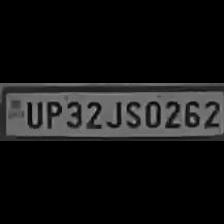0: (143, 98, 161, 128)
2: (82, 97, 102, 129), (202, 98, 222, 128), (162, 97, 180, 129)
3: (62, 97, 82, 129)
6: (180, 98, 200, 128)
J: (104, 96, 122, 130)
P: (42, 97, 62, 129)
S: (123, 97, 141, 129)
U: (22, 98, 42, 128)
